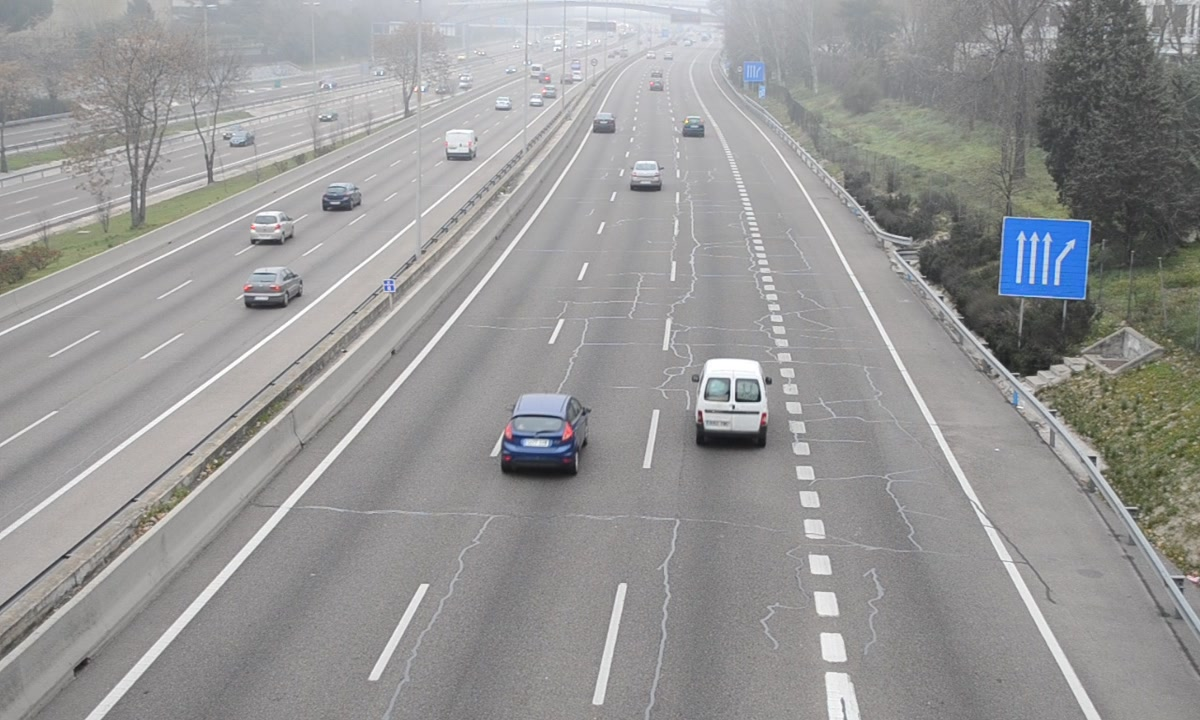car: (504, 393, 589, 468), (629, 159, 660, 190), (591, 111, 617, 135), (682, 116, 704, 137)
van: (695, 359, 767, 446)
